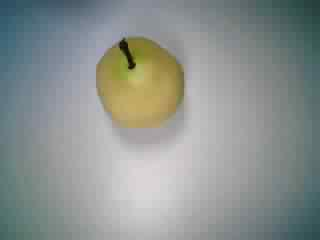pear: (87, 31, 193, 138)
